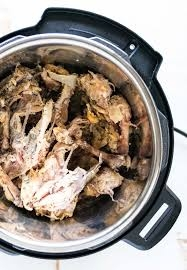kitchen_waste: (20, 140, 93, 222), (39, 67, 74, 134), (2, 67, 46, 115), (77, 135, 131, 167), (78, 73, 121, 113), (1, 105, 13, 155)
